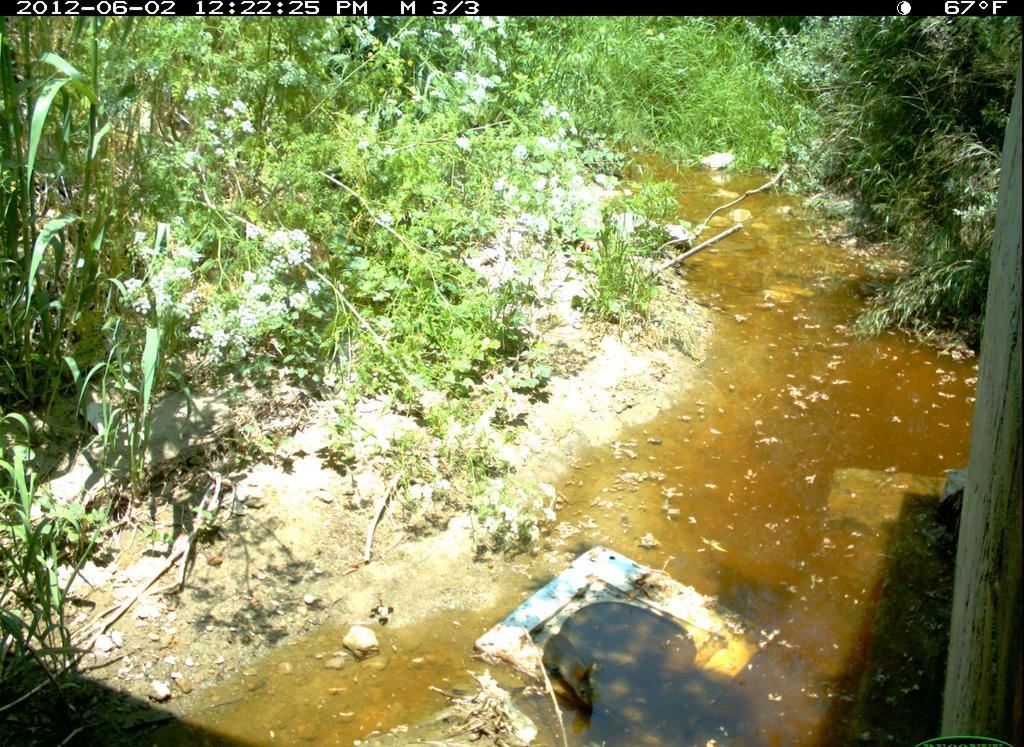rabbit: (537, 630, 610, 722)
